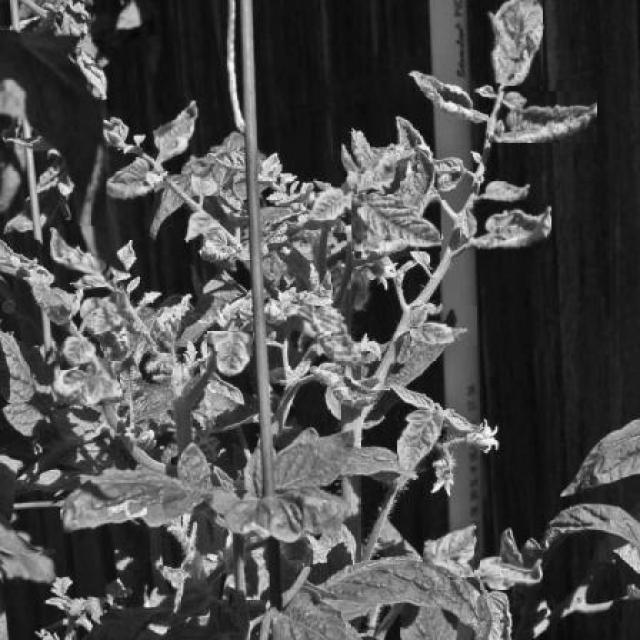Yellow Leaf Curl Virus: (489, 92, 597, 144), (352, 194, 442, 252), (483, 1, 543, 86), (406, 64, 488, 126), (288, 305, 368, 366), (467, 205, 552, 251), (50, 226, 110, 283), (154, 98, 204, 163), (51, 361, 120, 406), (423, 522, 474, 578), (397, 410, 443, 471), (410, 305, 477, 346), (340, 154, 400, 196), (208, 331, 253, 382), (480, 553, 542, 590), (306, 182, 358, 225), (77, 292, 130, 334), (105, 158, 155, 202), (482, 174, 539, 206), (61, 337, 100, 370), (180, 209, 220, 240), (192, 163, 220, 196)
